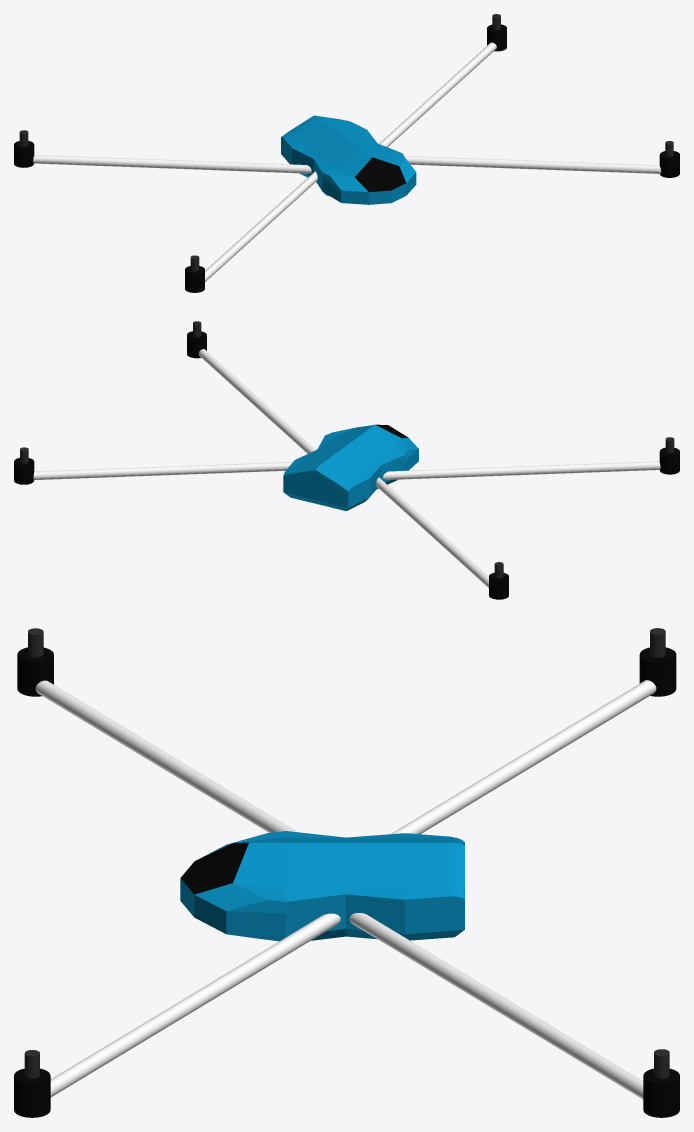
Rendered from Drone Body.glb.
The picture shows the model from 3 angles, top to bottom: view 1: azimuth 30°, elevation 25°; view 2: azimuth 150°, elevation 25°; view 3: azimuth 270°, elevation 25°; orthographic projection. The views are drawn at different scales.
Visible parts, largest first — view 1: Cylinder.020; view 2: Cylinder.020; view 3: Cylinder.020.
Boxes of the visible parts, x1,y1,x2,y2 form: Cylinder.020: (14,14,679,292); Cylinder.020: (14,321,679,599); Cylinder.020: (14,628,679,1117).
Bounding box in the file's own units: 55.51 × 4.21 × 35.77.
